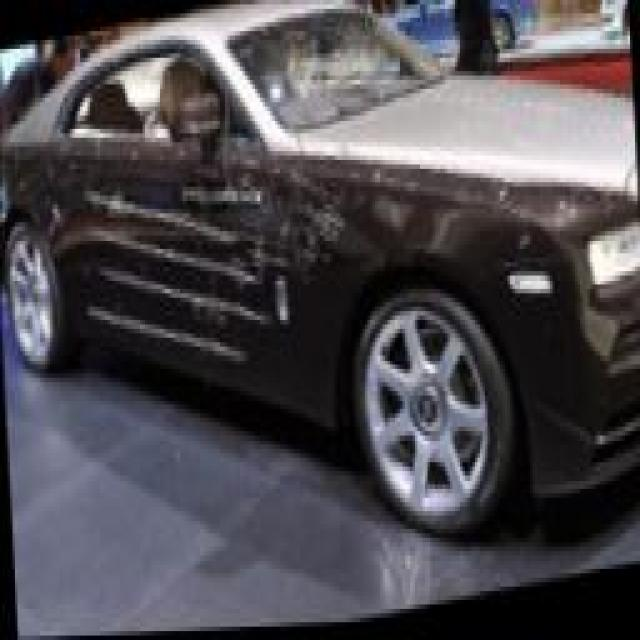Door: (90, 111, 376, 461)
